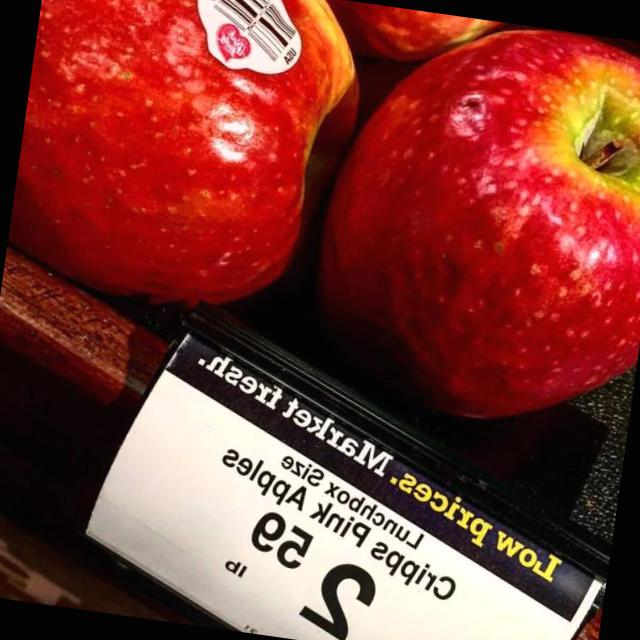Apple: (298, 1, 640, 441), (2, 0, 371, 329)
